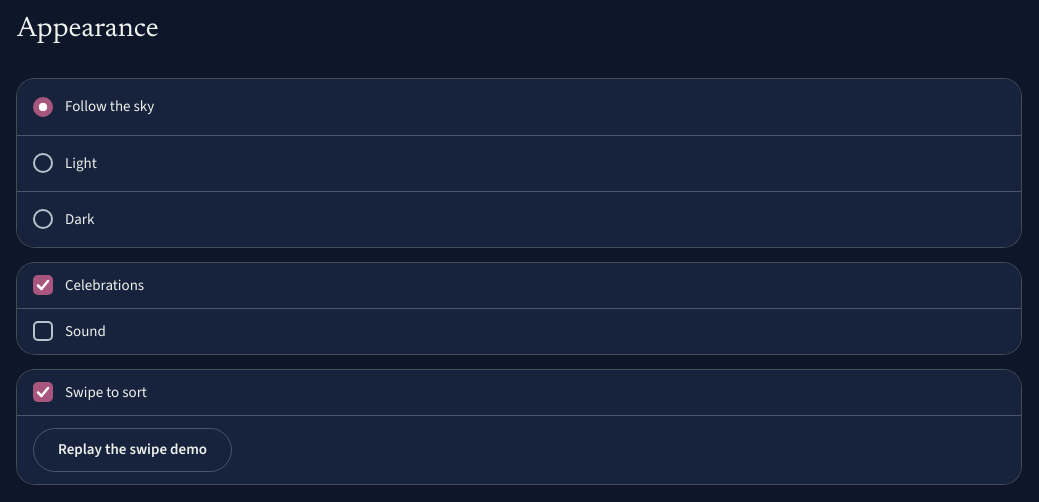
Test: Appearance: Celebrations and Sound (sorting redesign, Settings) › Celebrations is on and Sound off by default, each saved for the person
This screenshot has width=1039, height=502.
Expected: the switch labelled "Celebrations" is checked, [33, 275, 53, 295]
Click the switch labelled "Sound" at (43, 331), box [33, 321, 53, 341]
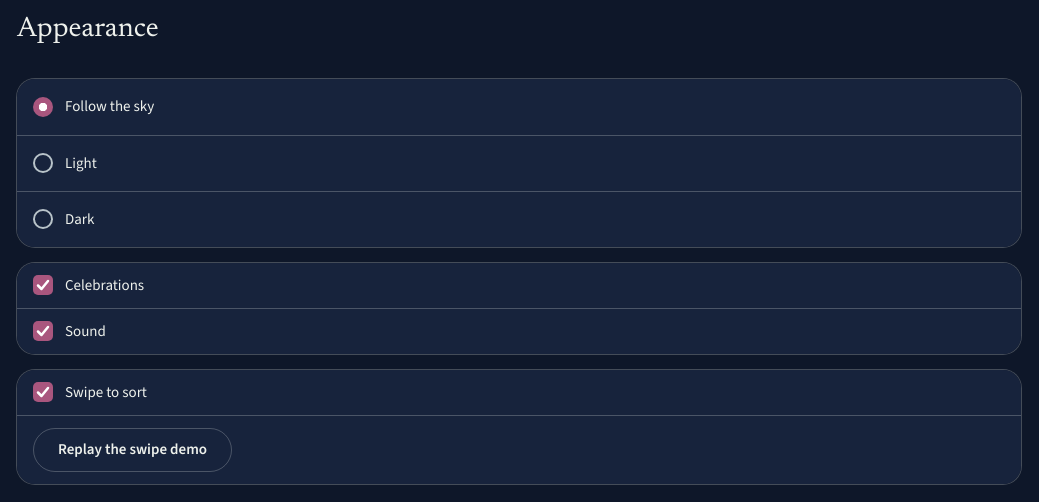
Click the switch labelled "Celebrations" at (43, 285), box [33, 275, 53, 295]
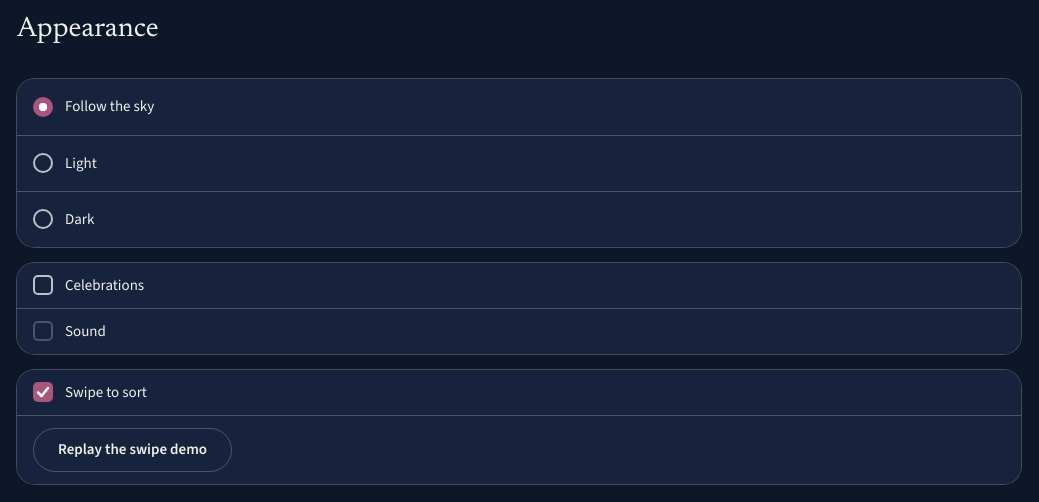
Now the switch labelled "Sound" is disabled, box [33, 321, 53, 341]
